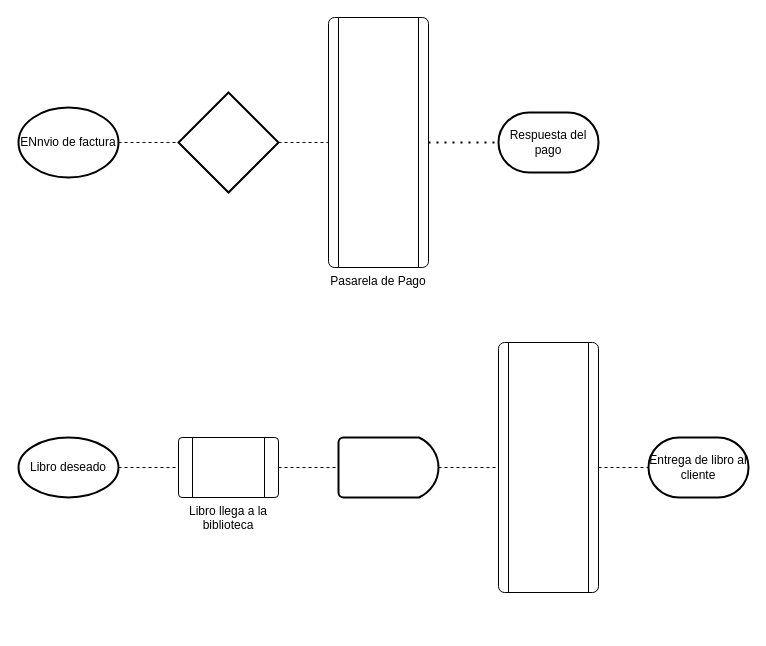
The diagram is 766 pixels wide and 646 high, and some of its shapes have lost their labels. Here are the shapes that lost their labels. From the top down, the centre of each, then its label:
At point 228,142: "Realizar Pago".
At point 388,467: "Enviar notificacion al usuario".
At point 548,467: "Envio de email por smtp".
